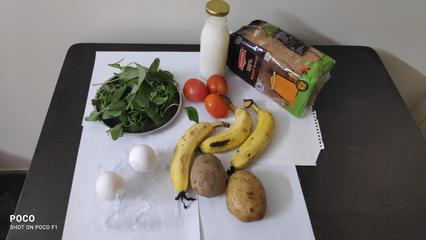banana: (222, 102, 277, 172), (171, 117, 205, 185)
bread: (235, 20, 330, 112)
eggs: (96, 141, 161, 207)
milk: (199, 2, 229, 76)
potato: (230, 169, 267, 225), (191, 154, 224, 199)
spinach: (108, 65, 168, 128)
tomato: (184, 77, 235, 117)
